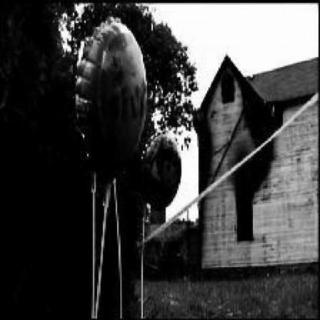other: (220, 126, 283, 153)
